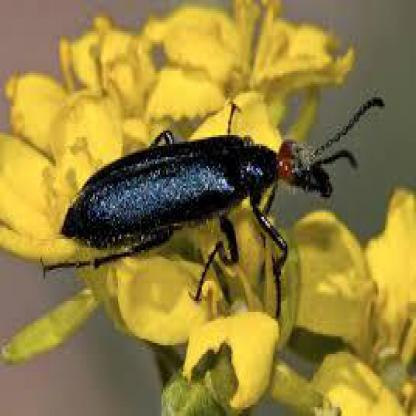blister beetle: (41, 95, 385, 278)
